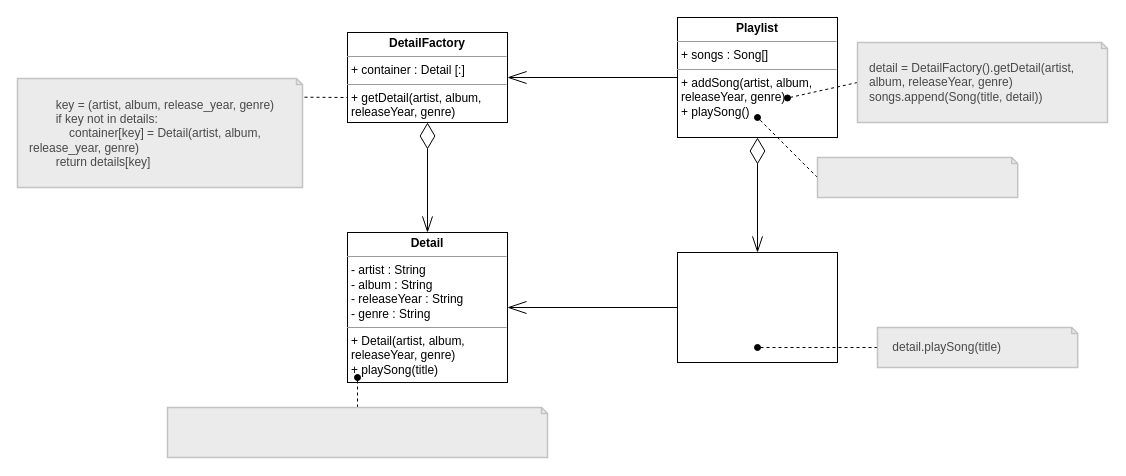
The diagram is 1126 pixels wide and 476 high, and some of its shapes have lost their labels. The shapes that lost their labels are listed below. From the top down, each one's centre as x and y in pixels, then its label:
(917,177): for song in songs : song.playSong()
(757,307): Song - title : String - detail : Detail + Song(title, detail) + playSong()
(357,432): print(f'Now playing {title} - {artist} album {album}({releaseYear})')
